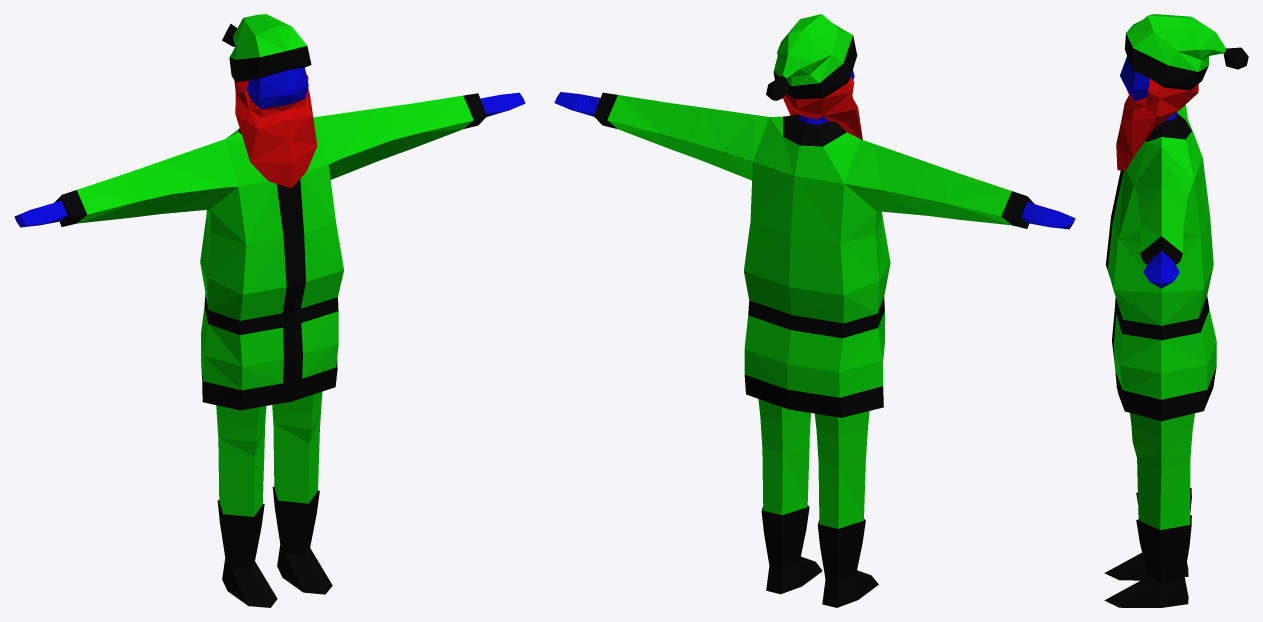
The model's file is SantaClaus_NoArmature.fbx.
3 views of the same model, side by side, from view 1: azimuth 30°, elevation 25°; view 2: azimuth 150°, elevation 25°; view 3: azimuth 270°, elevation 25° (orthographic). The views are drawn at different scales.
Parts seen in each view (by area): view 1: SantaClaus_B; view 2: SantaClaus_B; view 3: SantaClaus_B.
Part boxes in pixels (x1,y1,x2,y2): SantaClaus_B: (14,14,525,607); SantaClaus_B: (554,14,1075,607); SantaClaus_B: (1104,14,1248,607).
Bounding box in the file's own units: 156 × 164 × 37.67.
